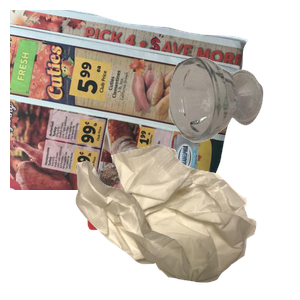glass: (166, 54, 300, 189)
paper: (10, 10, 250, 190)
plastic: (84, 191, 242, 300)
trash: (73, 142, 300, 300)
